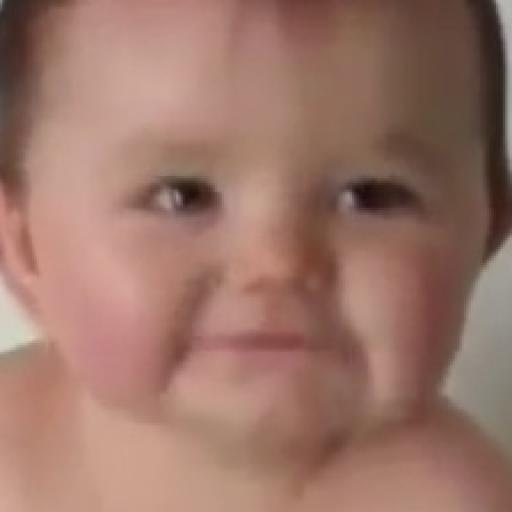Autism: (19, 12, 512, 473)
